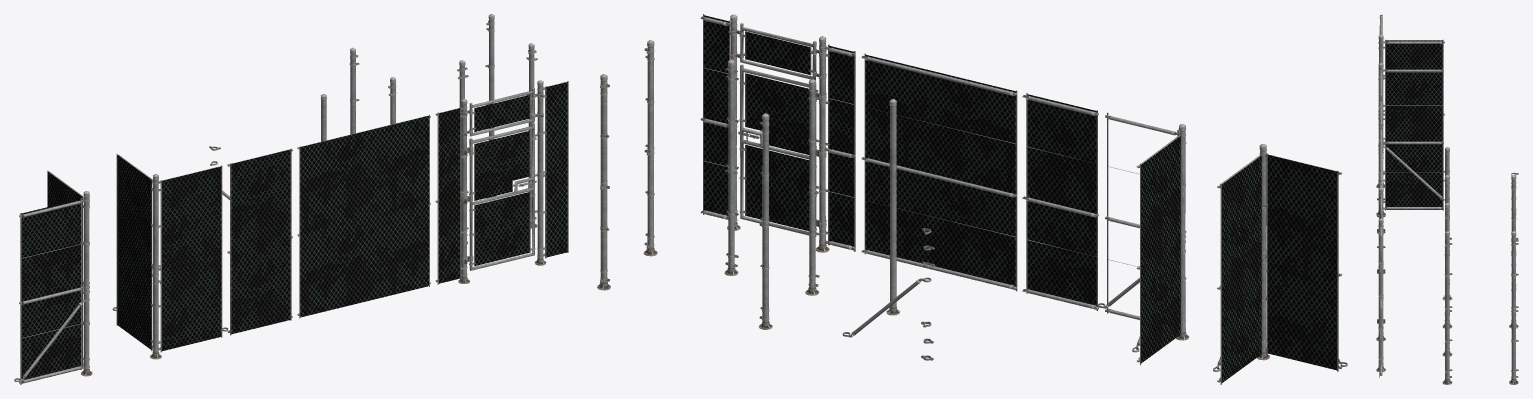
File: modular_chainlink_fence.glb
3 renders of one model, left to right at view 1: azimuth 30°, elevation 25°; view 2: azimuth 150°, elevation 25°; view 3: azimuth 270°, elevation 25°, orthographic. The views are drawn at different scales.
Parts seen in each view (by area): view 1: modular_chainlink_fence_double, modular_chainlink_fence_corner_outer, modular_chainlink_fence_door_frame, modular_chainlink_fence_corner_inner, modular_chainlink_fence, modular_chainlink_fence_door_gate, modular_chainlink_fence_start_01_corner_02, modular_chainlink_fence_start_01_corner_01, modular_chainlink_fence_end_02; view 2: modular_chainlink_fence_double, modular_chainlink_fence_corner_inner, modular_chainlink_fence_door_frame, modular_chainlink_fence, modular_chainlink_fence_corner_outer, modular_chainlink_fence_door_gate, modular_chainlink_fence_start_01_corner_02, modular_chainlink_post_middle, modular_chainlink_fence_end_01, modular_chainlink_fence_start_01_corner_01, modular_chainlink_fence_end_02, modular_chainlink_fence_post; view 3: modular_chainlink_fence_corner_outer, modular_chainlink_fence_corner_inner, modular_chainlink_fence_door_frame, modular_chainlink_fence_start_01_corner_02, modular_chainlink_fence_start_01_corner_01, modular_chainlink_fence_end_02, modular_chainlink_fence_double, modular_chainlink_post_middle, modular_chainlink_fence_end_01, modular_chainlink_fence_post.
Boxes of the visible parts, x1,y1,x2,y2 form: modular_chainlink_fence_double: [297, 114, 430, 318]; modular_chainlink_fence_corner_outer: [112, 154, 228, 359]; modular_chainlink_fence_door_frame: [435, 80, 568, 284]; modular_chainlink_fence_corner_inner: [14, 170, 92, 384]; modular_chainlink_fence: [227, 148, 292, 335]; modular_chainlink_fence_door_gate: [469, 123, 535, 270]; modular_chainlink_fence_start_01_corner_02: [485, 14, 497, 198]; modular_chainlink_fence_start_01_corner_01: [526, 43, 537, 228]; modular_chainlink_fence_end_02: [349, 47, 359, 134]; modular_chainlink_fence_double: [861, 53, 1017, 291]; modular_chainlink_fence_corner_inner: [1213, 144, 1347, 384]; modular_chainlink_fence_door_frame: [700, 14, 855, 252]; modular_chainlink_fence: [1022, 93, 1098, 310]; modular_chainlink_fence_corner_outer: [1098, 112, 1189, 365]; modular_chainlink_fence_door_gate: [739, 64, 816, 236]; modular_chainlink_fence_start_01_corner_02: [597, 74, 610, 290]; modular_chainlink_post_middle: [724, 59, 738, 275]; modular_chainlink_fence_end_01: [805, 79, 819, 295]; modular_chainlink_fence_start_01_corner_01: [643, 40, 657, 256]; modular_chainlink_fence_end_02: [758, 113, 772, 329]; modular_chainlink_fence_post: [886, 99, 899, 315]; modular_chainlink_fence_corner_outer: [1376, 62, 1449, 215]; modular_chainlink_fence_corner_inner: [1376, 14, 1449, 188]; modular_chainlink_fence_door_frame: [1376, 182, 1385, 377]; modular_chainlink_fence_start_01_corner_02: [1509, 231, 1518, 384]; modular_chainlink_fence_start_01_corner_01: [1442, 231, 1452, 384]; modular_chainlink_fence_end_02: [1509, 175, 1518, 328]; modular_chainlink_fence_double: [1379, 126, 1382, 182]; modular_chainlink_post_middle: [1442, 203, 1452, 356]; modular_chainlink_fence_end_01: [1442, 175, 1452, 328]; modular_chainlink_fence_post: [1442, 147, 1452, 300].
Size of the model in its own units: 8.11 by 2.52 by 2.15.
Materials: 2 (2 with a texture image).
